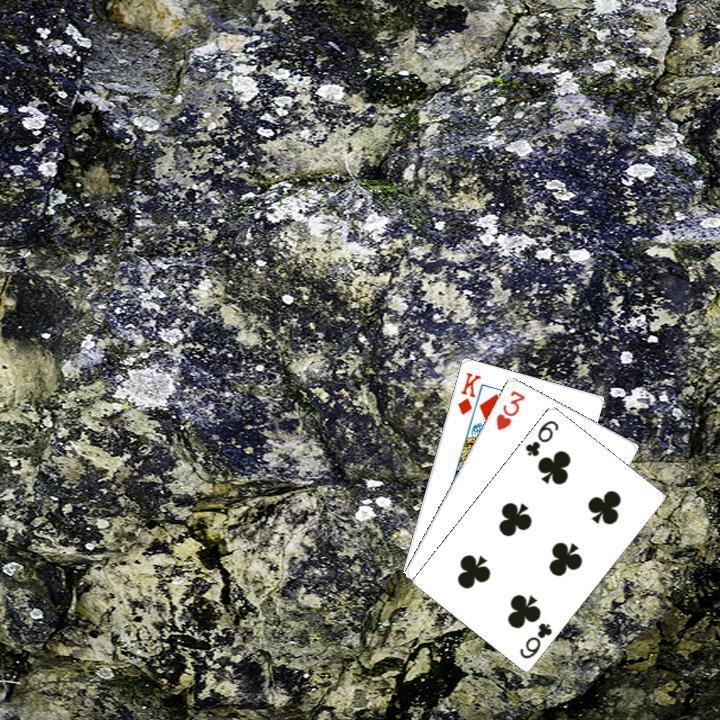3: (491, 385, 527, 432)
6: (520, 415, 561, 458), (515, 618, 554, 660)
K: (453, 368, 483, 417)
